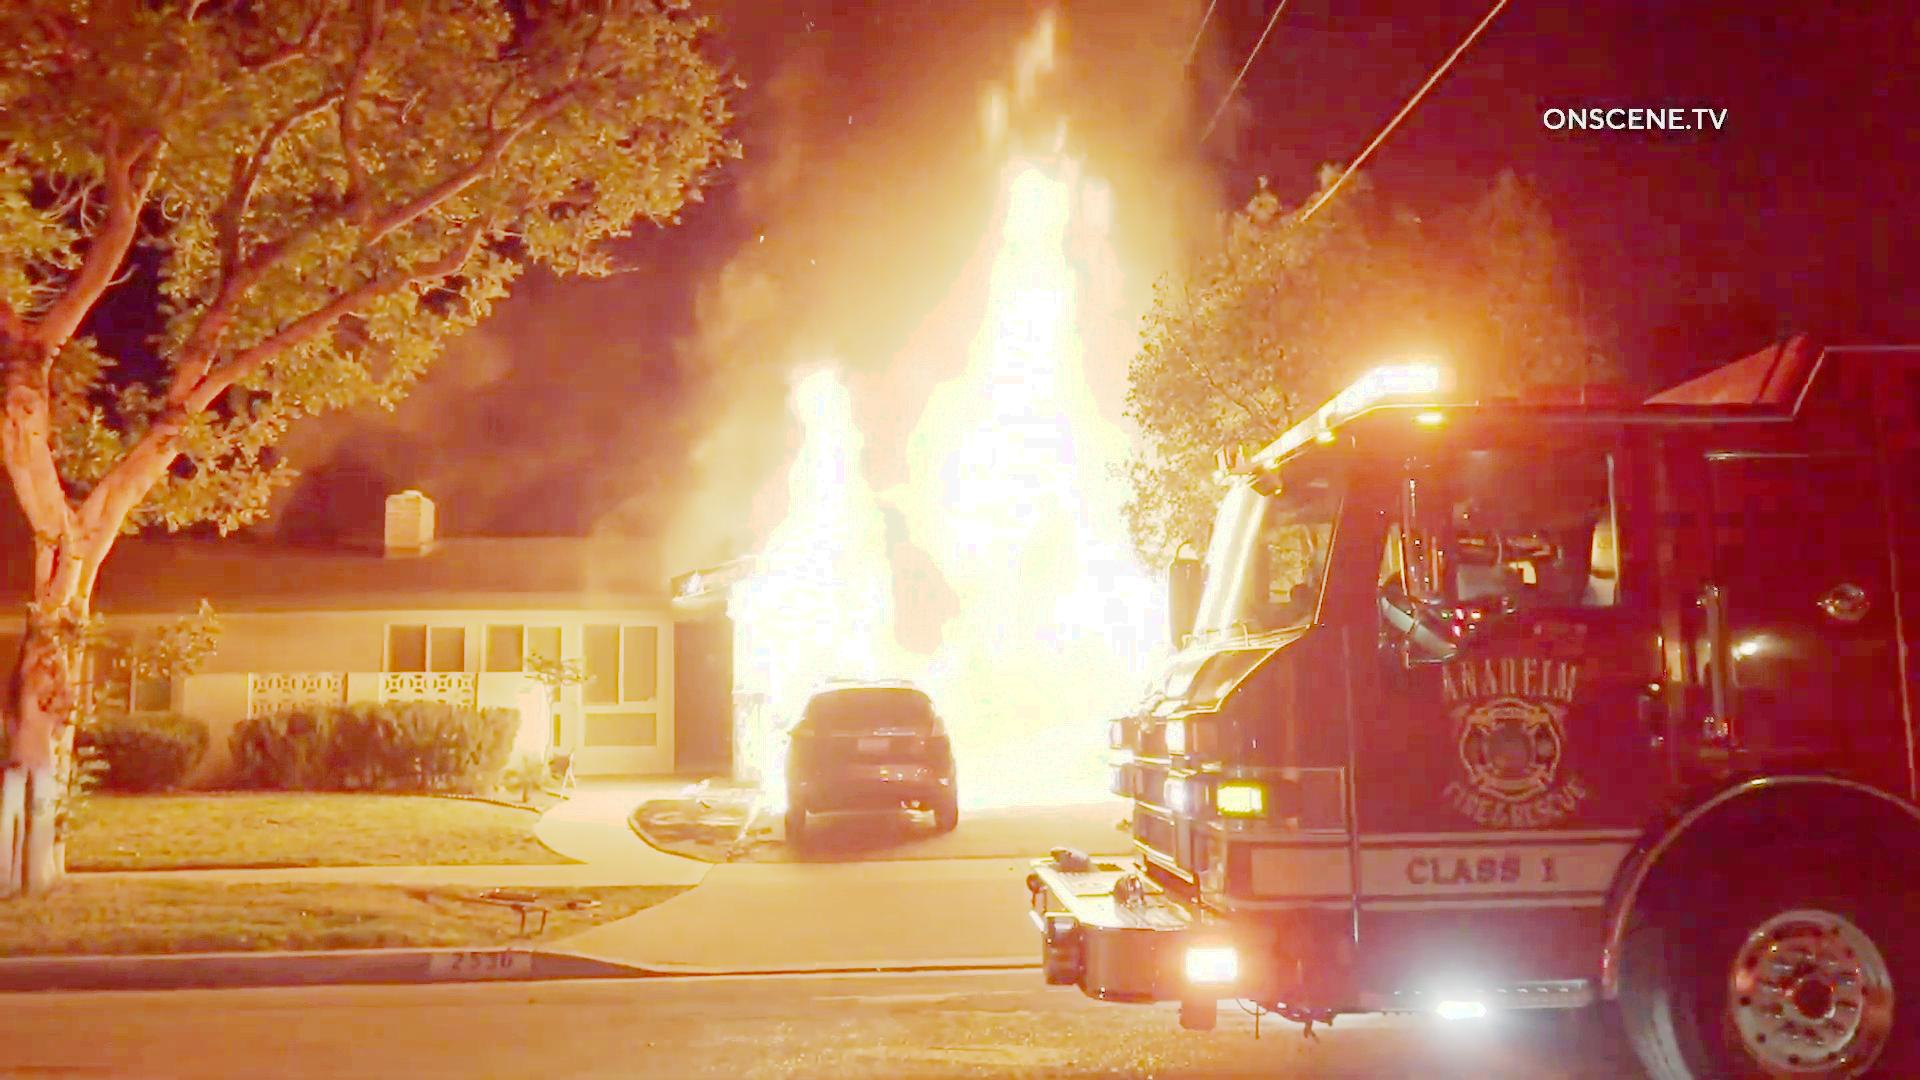fire: (845, 161, 1095, 687), (935, 12, 1081, 803), (720, 235, 924, 670)
smoke: (498, 273, 671, 546), (713, 13, 915, 149), (1091, 13, 1245, 133)
